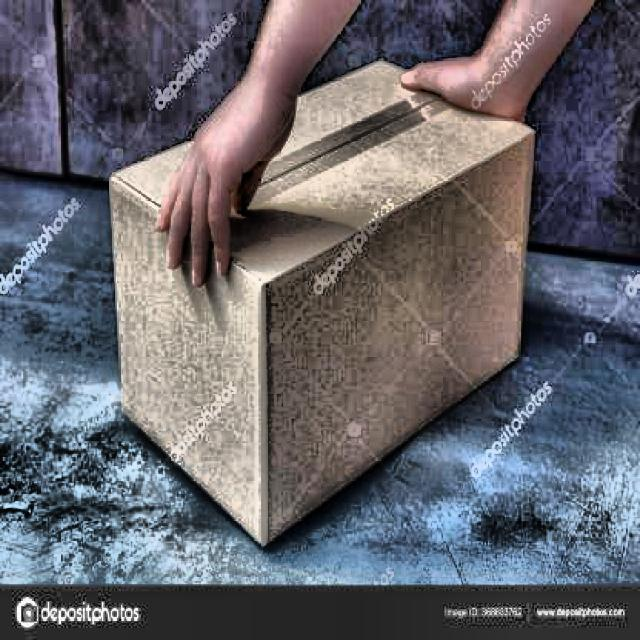Cardbox: (91, 44, 540, 544)
